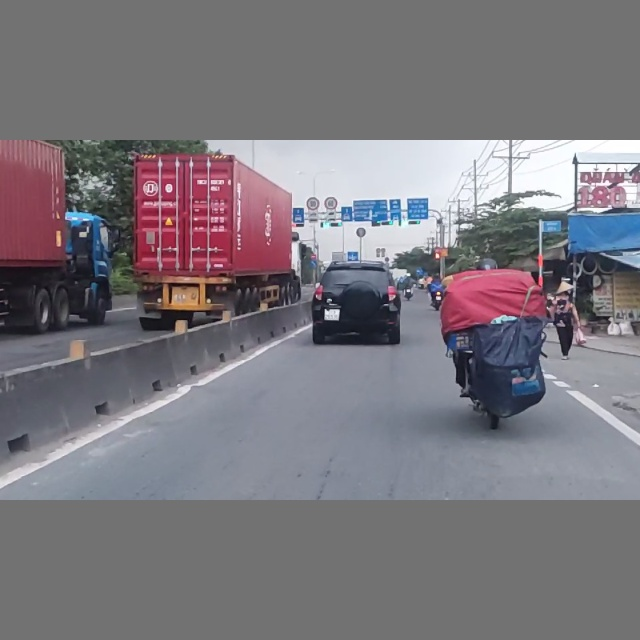P.102: (310, 253, 317, 259)
P.127*60: (323, 196, 339, 211)
P.127*80: (307, 197, 320, 210)
R.302a: (311, 261, 317, 266)
